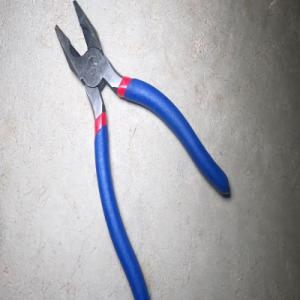Pliers: (54, 0, 231, 300)
